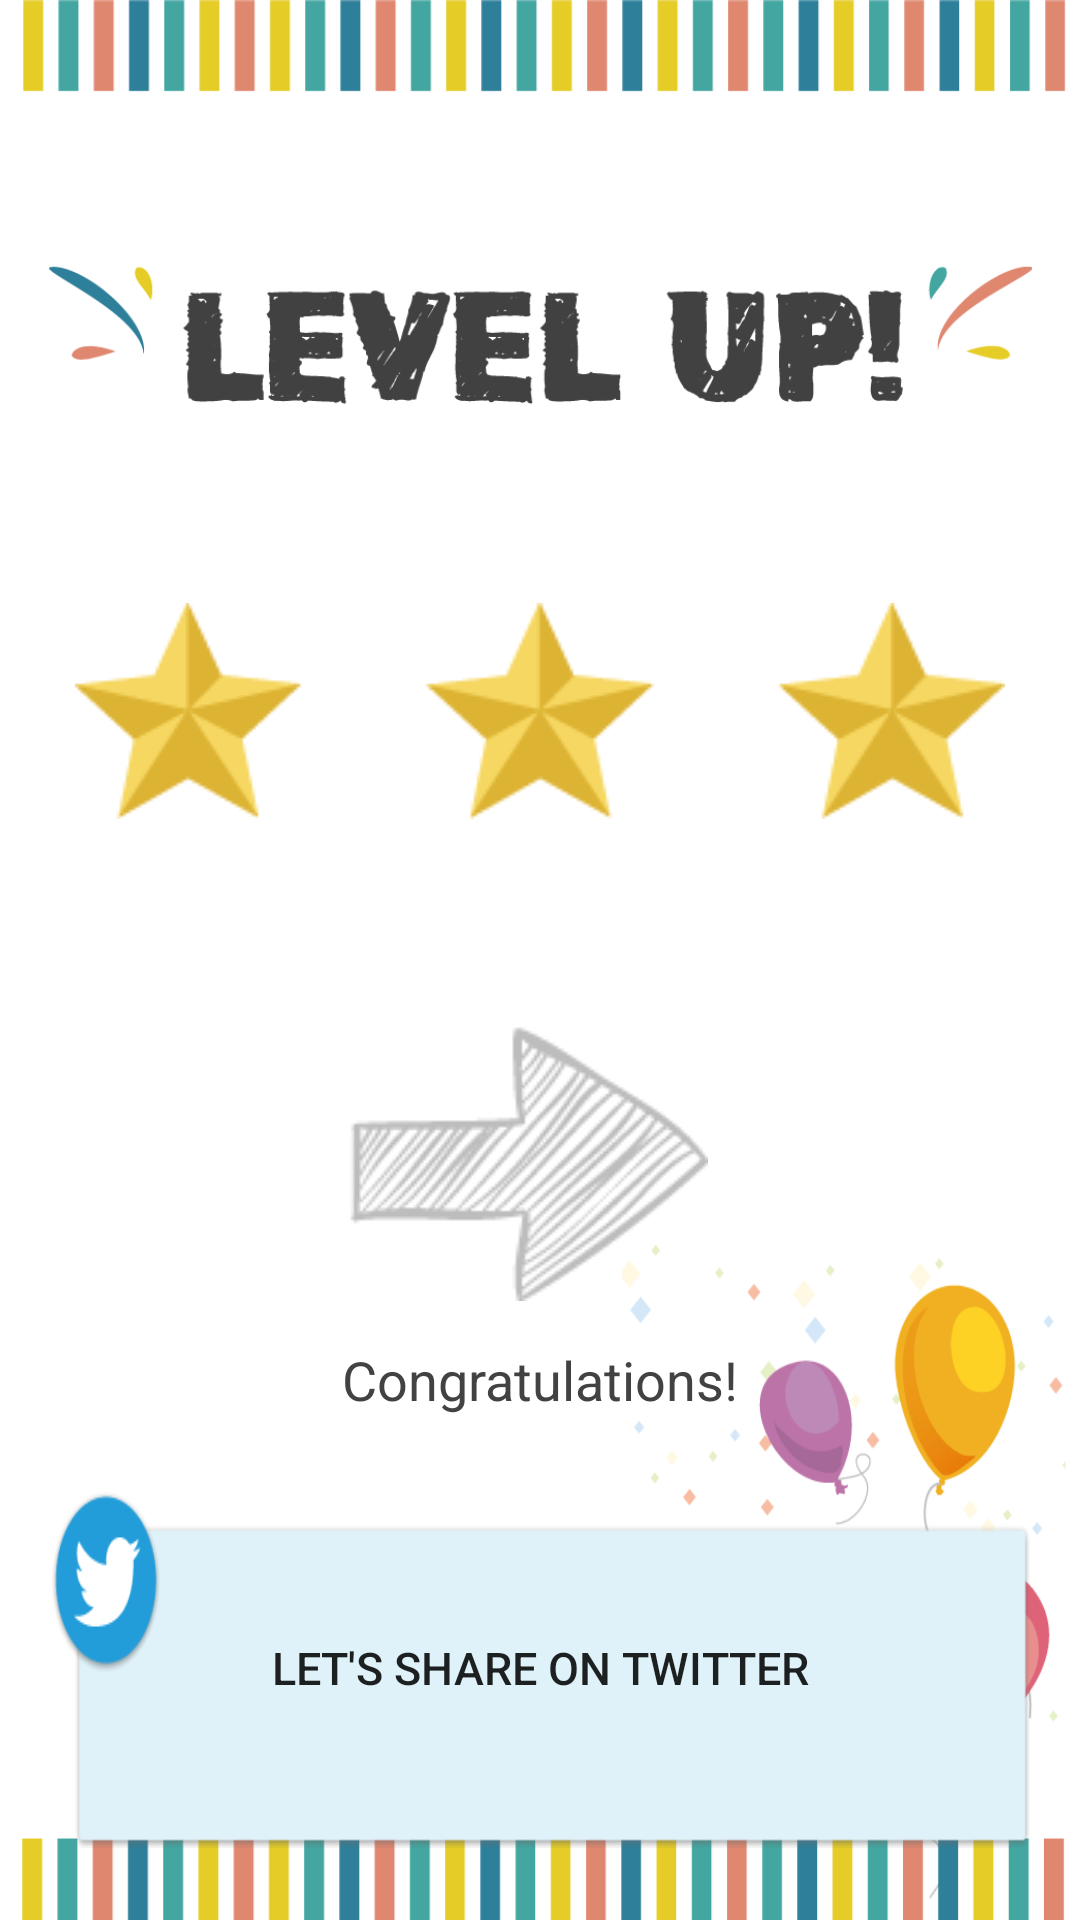

Where to tap for icons on this 1080×1920 app screen, as (x=x, y=y):
arrow: (x=529, y=1164)
